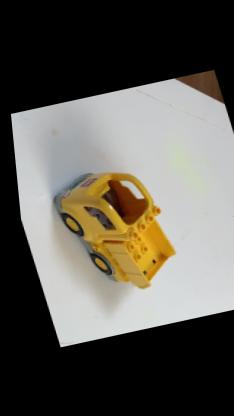yellow dump truck: (39, 157, 181, 302)
